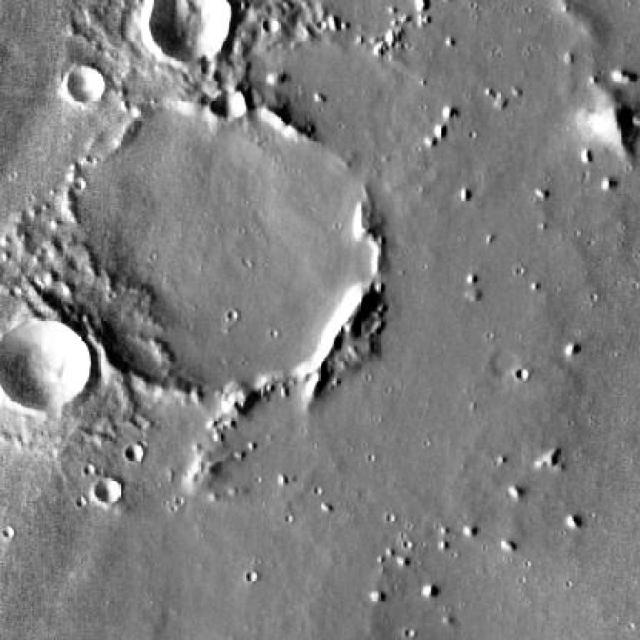crater: (67, 106, 379, 403), (0, 320, 98, 416), (155, 0, 243, 63), (69, 66, 108, 102), (218, 92, 252, 125), (492, 351, 519, 377), (95, 479, 120, 503), (125, 446, 144, 462)
